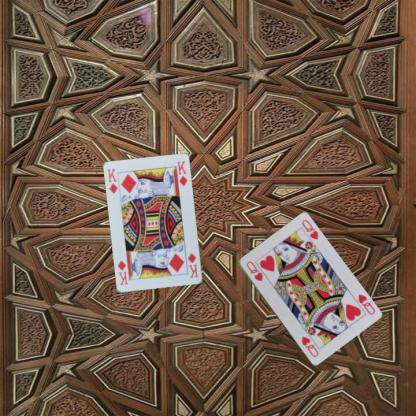Kd: (185, 250, 200, 279), (105, 166, 119, 195)
Qh: (355, 291, 376, 316), (244, 258, 264, 283)
